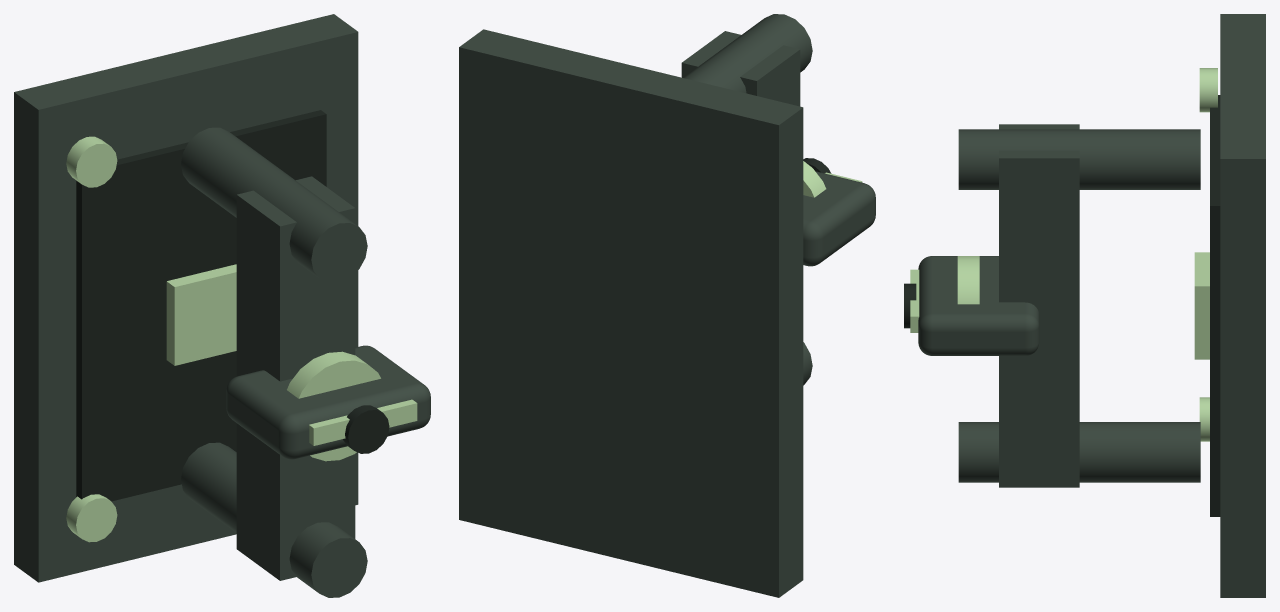
3 renders of one model, left to right at view 1: azimuth 30°, elevation 25°; view 2: azimuth 150°, elevation 25°; view 3: azimuth 270°, elevation 25°, orthographic. The views are drawn at different scales.
Visible parts, largest first — view 1: mount-frame, mount-clearance, mount-boom, mount-arm-upper, camera-cradle, mount-arm-lower, mount-anchor, mount-pivot, wall-bolt-0.58, wall-bolt-0.22, mount-rubber, mount-trim; view 2: mount-frame, camera-cradle, mount-arm-upper, mount-boom, mount-pivot; view 3: mount-frame, mount-boom, mount-arm-upper, mount-arm-lower, camera-cradle, mount-clearance, mount-anchor, mount-pivot, wall-bolt-0.58, mount-trim.
Boxes of the visible parts, bbox=[...] form: mount-frame: bbox=[14, 14, 358, 582]; mount-clearance: bbox=[76, 110, 326, 501]; mount-boom: bbox=[236, 176, 355, 580]; mount-arm-upper: bbox=[181, 127, 367, 282]; camera-cradle: bbox=[226, 345, 430, 459]; mount-arm-lower: bbox=[181, 442, 367, 597]; mount-anchor: bbox=[166, 264, 236, 365]; mount-pivot: bbox=[287, 351, 380, 461]; wall-bolt-0.58: bbox=[66, 136, 117, 187]; wall-bolt-0.22: bbox=[66, 494, 117, 542]; mount-rubber: bbox=[343, 405, 389, 453]; mount-trim: bbox=[309, 399, 417, 445]; mount-frame: bbox=[459, 29, 803, 597]; camera-cradle: bbox=[803, 171, 875, 266]; mount-arm-upper: bbox=[683, 14, 812, 93]; mount-boom: bbox=[681, 31, 800, 106]; mount-pivot: bbox=[803, 161, 826, 197]; mount-frame: bbox=[1220, 14, 1265, 597]; mount-boom: bbox=[999, 124, 1079, 487]; mount-arm-upper: bbox=[958, 129, 1200, 189]; mount-arm-lower: bbox=[958, 422, 1200, 482]; camera-cradle: bbox=[918, 256, 1039, 355]; mount-clearance: bbox=[1210, 95, 1220, 516]; mount-anchor: bbox=[1194, 252, 1209, 359]; mount-pivot: bbox=[957, 256, 979, 304]; wall-bolt-0.58: bbox=[1199, 68, 1217, 112]; mount-trim: bbox=[910, 269, 919, 332].
Bounding box in the file's own units: 0.34 × 0.48 × 0.3585.
